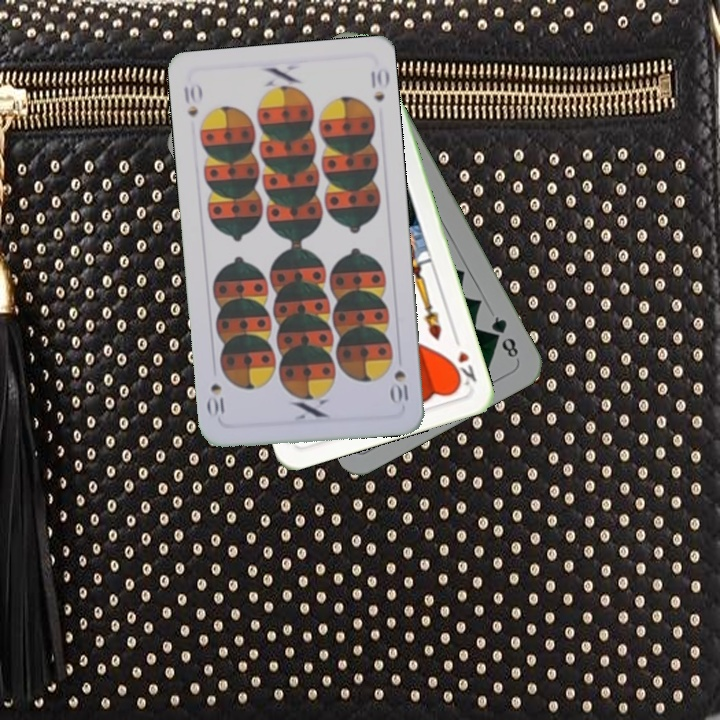G8: (487, 312, 521, 363)
HK: (447, 331, 479, 389)
S10: (387, 366, 411, 407), (180, 79, 203, 119)
